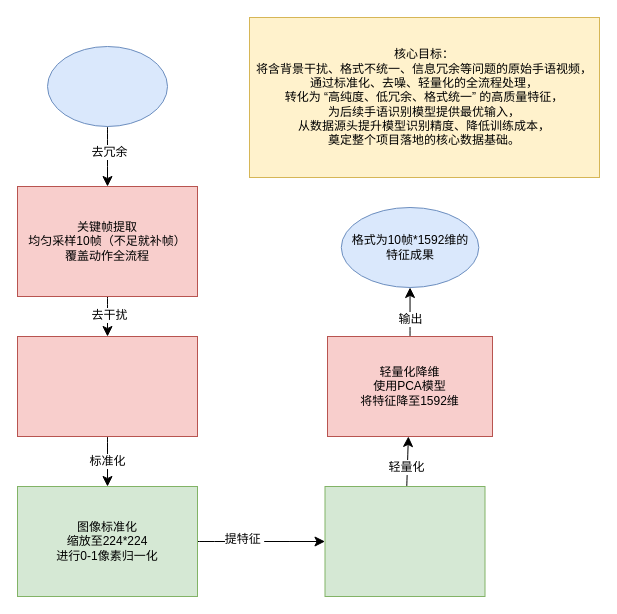
This 617x614 diagram has some shape labels left out. The shapes that lost their labels are listed below. From the top down, each one's box as (x1, y1, x2, y2) in pixels, then its label:
(46, 46, 168, 126): 原始数据整理 （按字母分类）
(16, 336, 198, 436): 手部ROI裁剪 MediaPipe检测+20px边界扩展 过滤复杂背景
(324, 486, 485, 596): 高维特征提取 MobileNetV2模型 输出62720维原始特征
